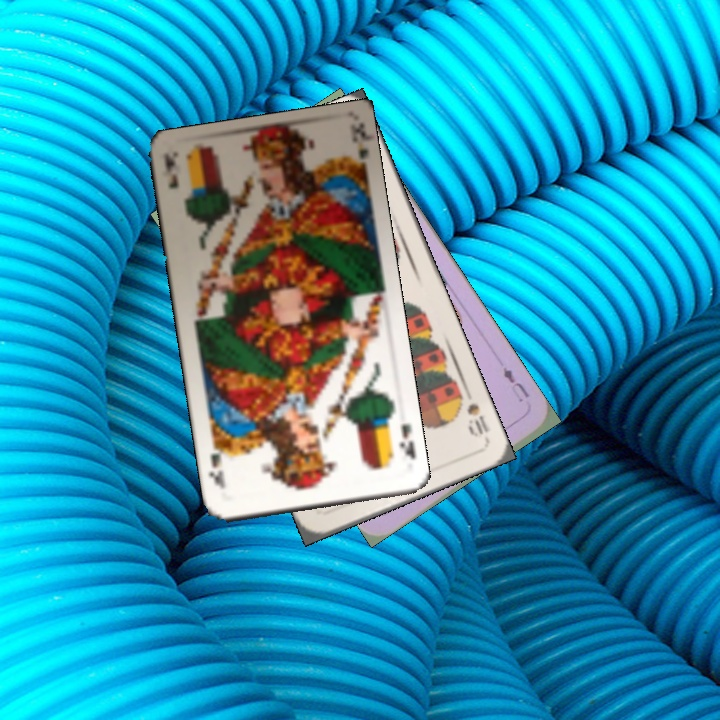EK: (394, 420, 418, 463), (161, 154, 182, 192)
EU: (498, 363, 533, 405)
S10: (453, 389, 493, 440)
